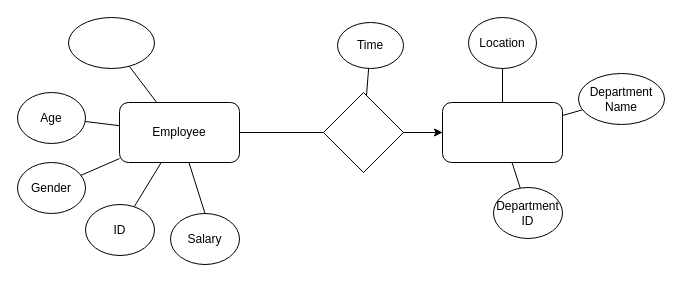
This 682x282 diagram has some shape labels left out. Here are the shapes that lost their labels. From the top down, the box of each, then its label:
(68, 16, 154, 68): Name
(322, 92, 404, 172): Works in
(442, 102, 562, 162): Department
